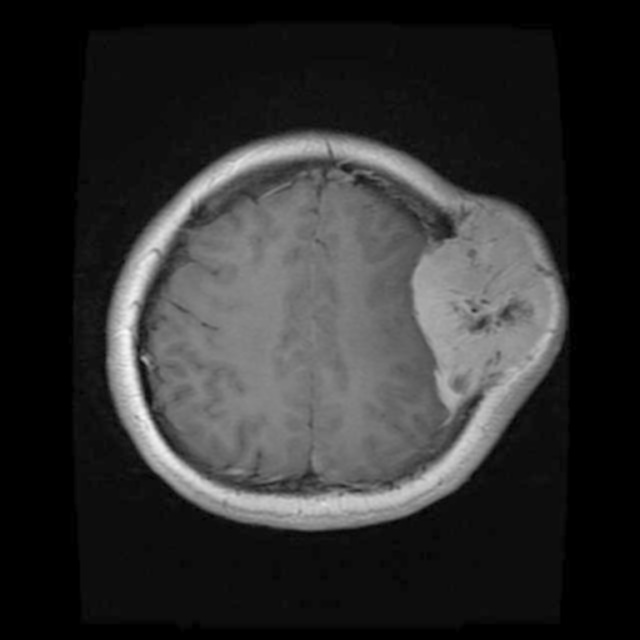meningioma tumor: (397, 194, 562, 406)
